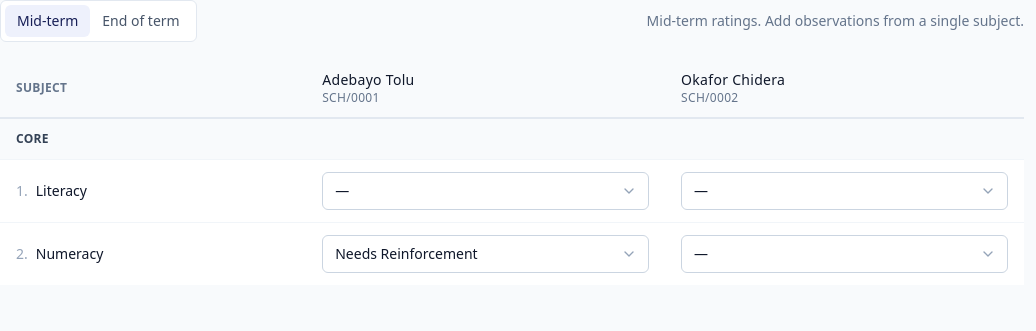
AllSubjectsEntryGrid › hides an EXAM_ONLY subject at mid-term
The width and height of the screenshot is (1036, 331).
Check: the text "French" is not shown
Check: the text "Other subjects" is not shown
Click the radio button labelled "End of term". click: point(141, 21)
box: 90,5 -> 192,37
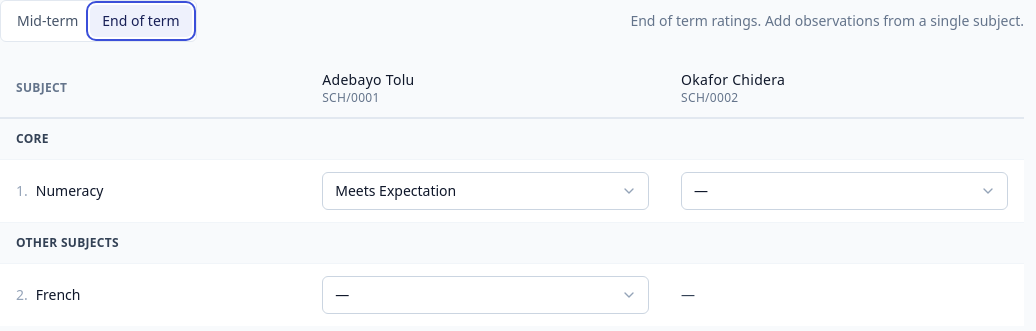
Check: the dropdown named "End of term rating for Adebayo Tolu in French" is shown, box 322,276 -> 649,314
